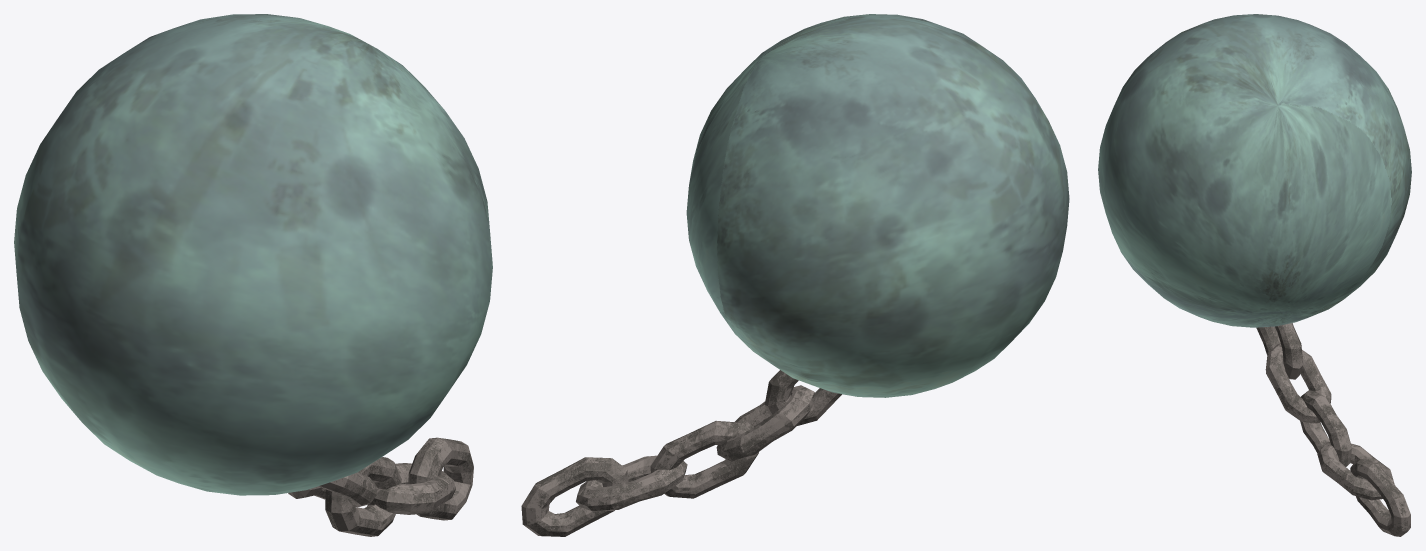
The model's file is planeta4.obj.
The picture shows the model from 3 angles, left to right: view 1: azimuth 30°, elevation 25°; view 2: azimuth 150°, elevation 25°; view 3: azimuth 270°, elevation 25°; orthographic projection. The views are drawn at different scales.
Parts seen in each view (by area): view 1: pTorus10; view 2: pTorus10; view 3: pTorus10.
Part boxes in pixels (bbox=[...]): pTorus10: bbox=[14, 14, 492, 536]; pTorus10: bbox=[521, 14, 1069, 536]; pTorus10: bbox=[1098, 14, 1411, 536].
Size of the model in its own units: 7.78 by 8.66 by 6.01.
Materials: 1 (1 with a texture image).
